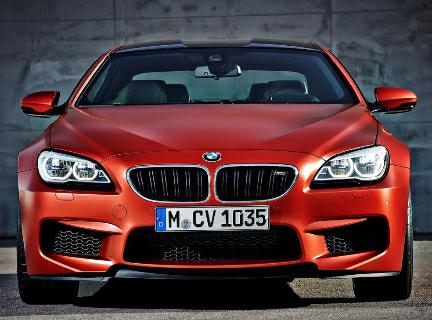宝马-M6: (10, 37, 421, 313)
